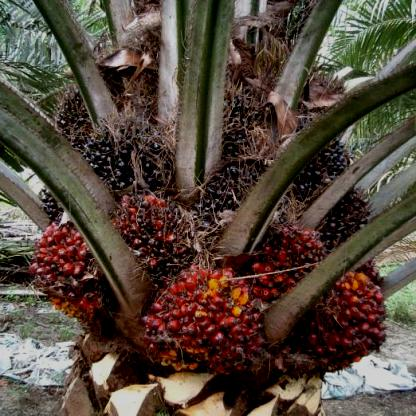1: (142, 266, 276, 378), (284, 267, 397, 372), (26, 227, 114, 325), (108, 189, 199, 269), (243, 223, 332, 301)
palm-oil: (72, 115, 173, 186), (197, 158, 266, 222), (319, 188, 369, 245), (295, 142, 347, 194), (222, 100, 264, 156), (50, 88, 90, 133), (34, 188, 68, 223)
